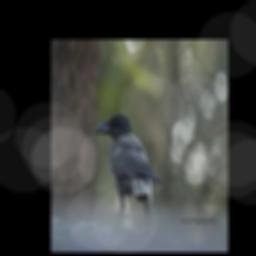Crow: (92, 113, 162, 229)
